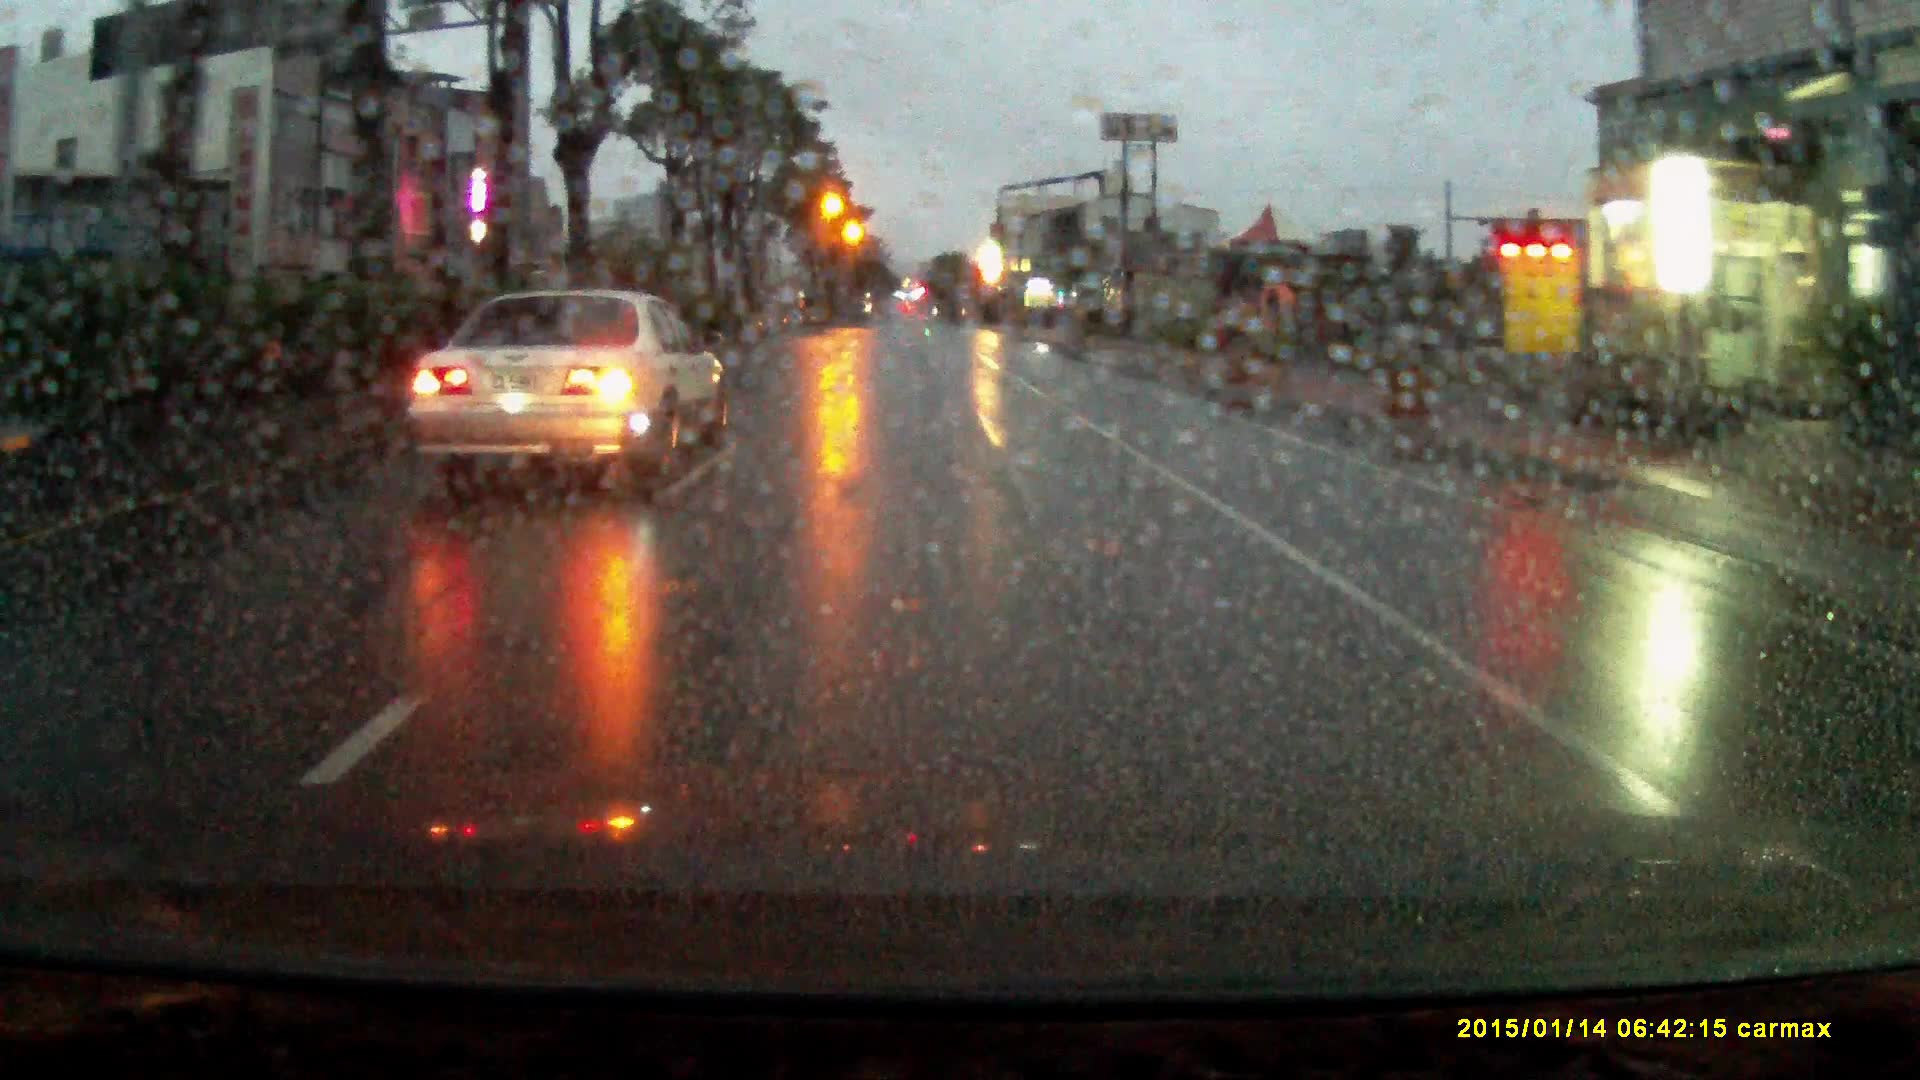vehicle: (406, 289, 738, 501)
